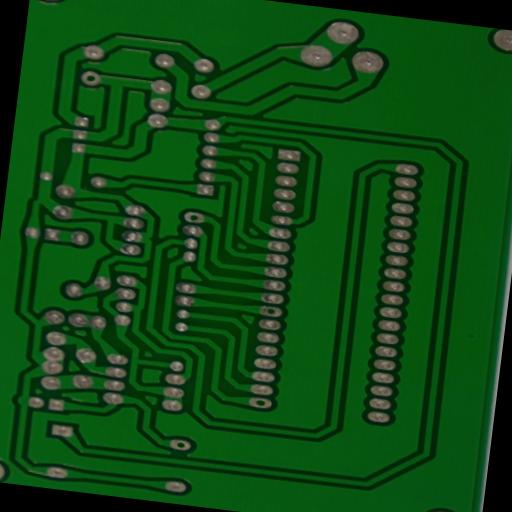missing_hole: (254, 398, 266, 406), (86, 74, 96, 82), (176, 440, 186, 448), (266, 307, 277, 314), (190, 214, 200, 220)
